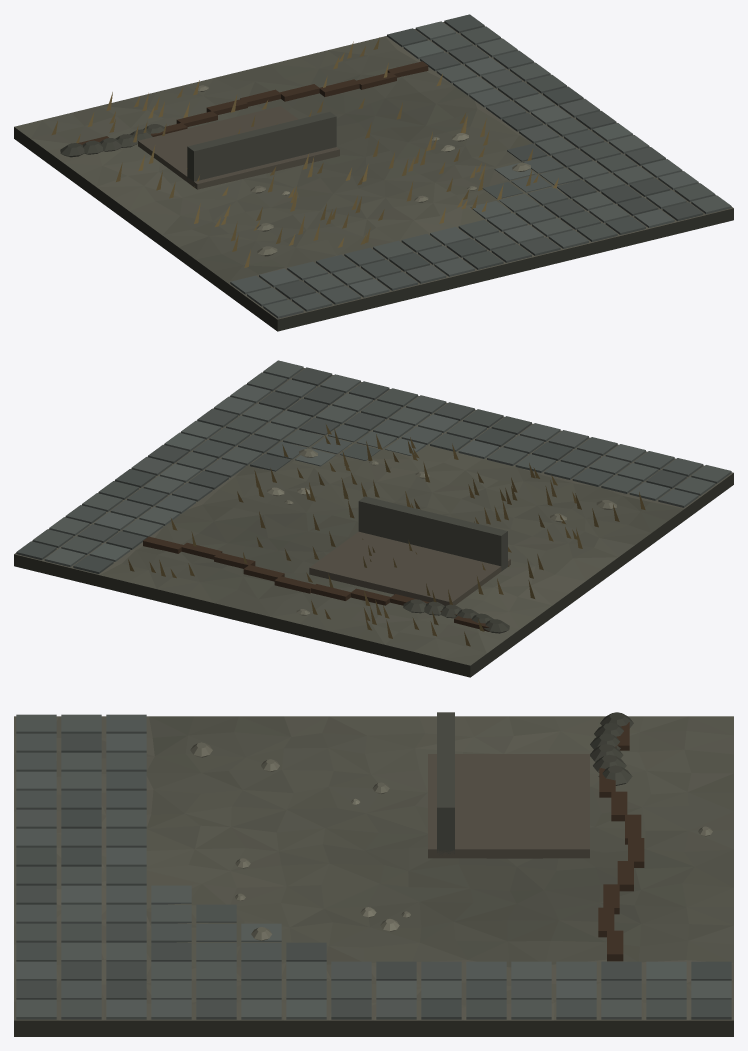
File: CHUNK_abandoned_village__looted_trade_hamlet__00.glb
3 views of the same model, one above another, from view 1: azimuth 30°, elevation 25°; view 2: azimuth 150°, elevation 25°; view 3: azimuth 270°, elevation 25° (orthographic). The views are drawn at different scales.
Parts seen in each view (by area): view 1: CHUNK_abandoned_village__looted_trade_hamlet__00; view 2: CHUNK_abandoned_village__looted_trade_hamlet__00; view 3: CHUNK_abandoned_village__looted_trade_hamlet__00.
Boxes of the visible parts, x1,y1,x2,y2 form: CHUNK_abandoned_village__looted_trade_hamlet__00: (14, 14, 733, 331); CHUNK_abandoned_village__looted_trade_hamlet__00: (14, 360, 733, 677); CHUNK_abandoned_village__looted_trade_hamlet__00: (14, 712, 733, 1036).
Size of the model in its own units: 8 by 0.83 by 8.
